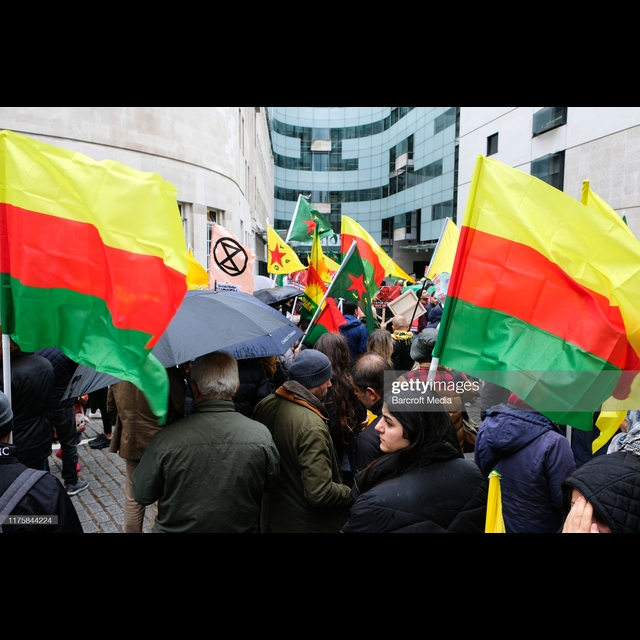YPG: (266, 242, 292, 271)
